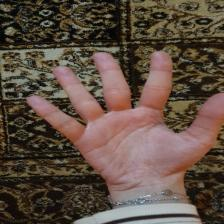five: (22, 50, 221, 173)
